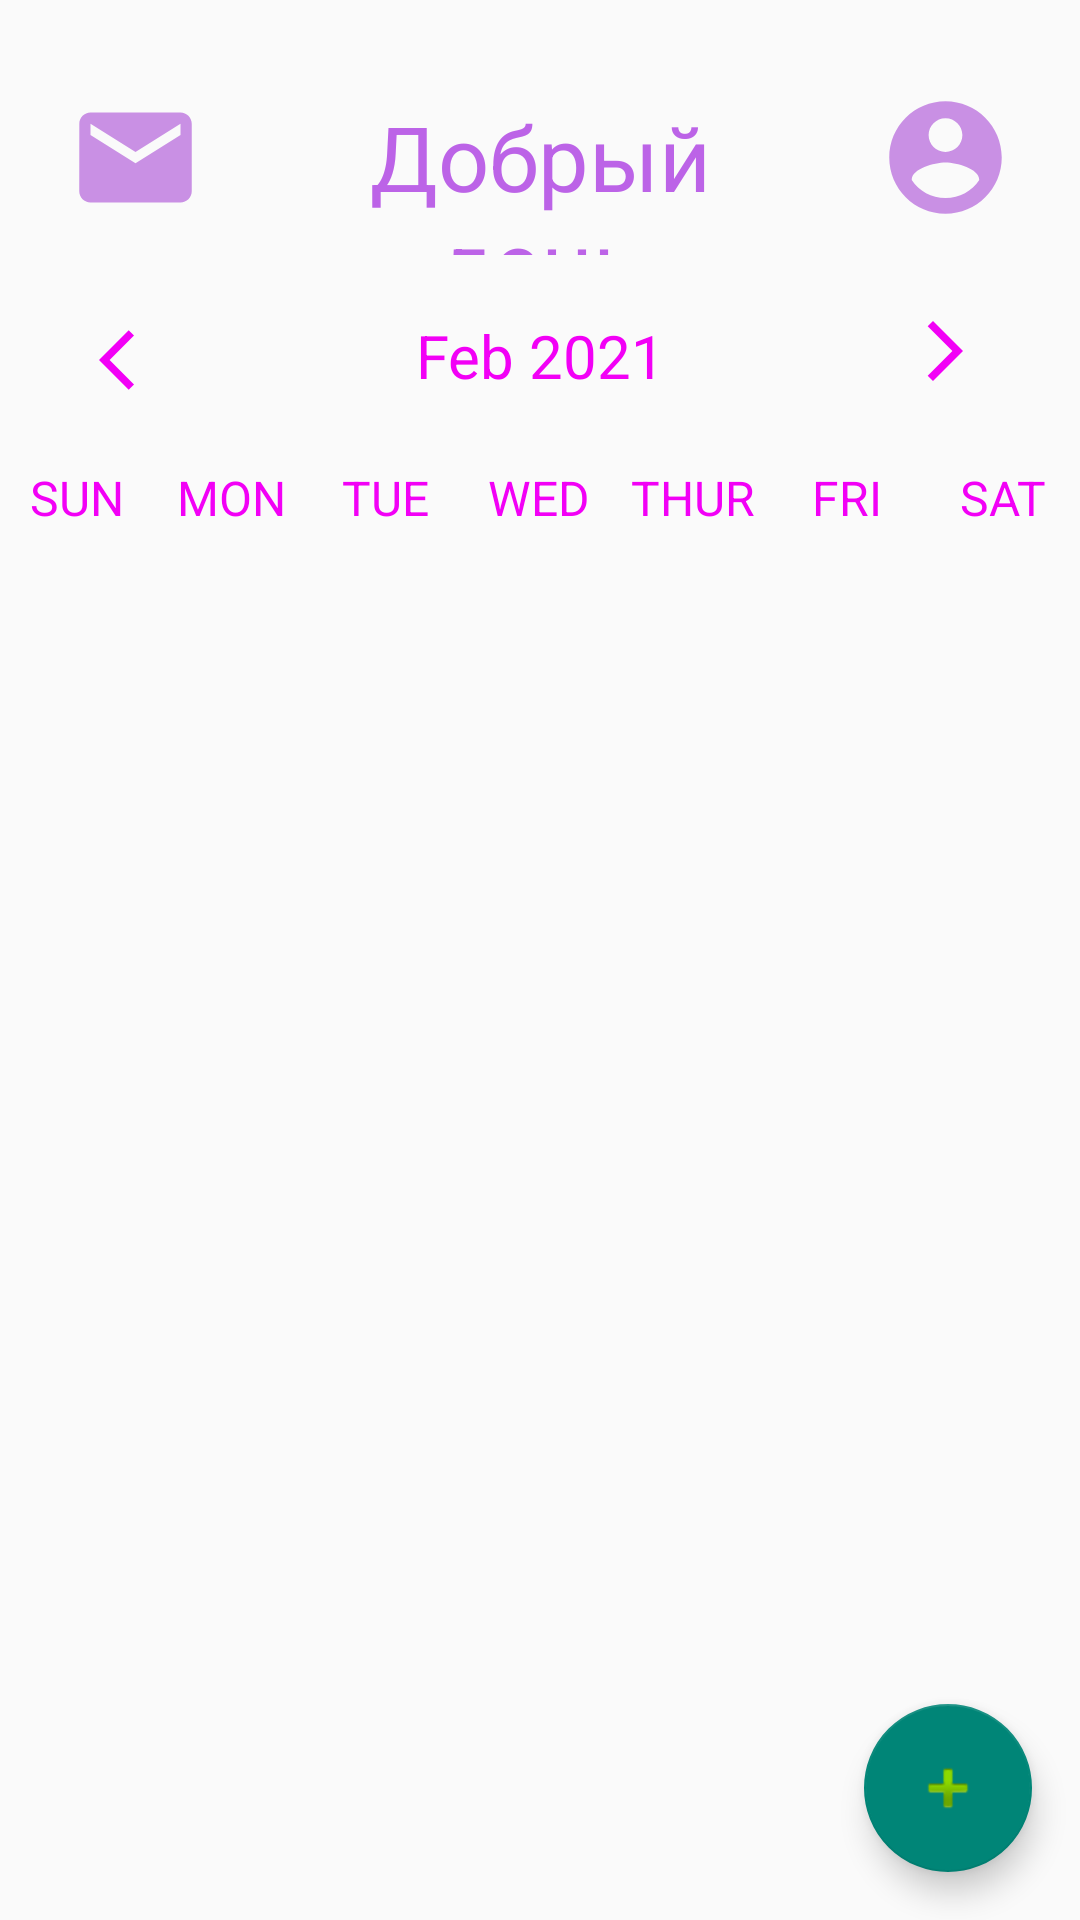

Where to tap for icons on this 1080px x 1920px app screen, as (x=x, y=y):
account circle: (x=945, y=157)
add: (x=948, y=1788)
arrow back: (x=116, y=360)
arrow forward: (x=945, y=351)
mail: (x=135, y=157)
